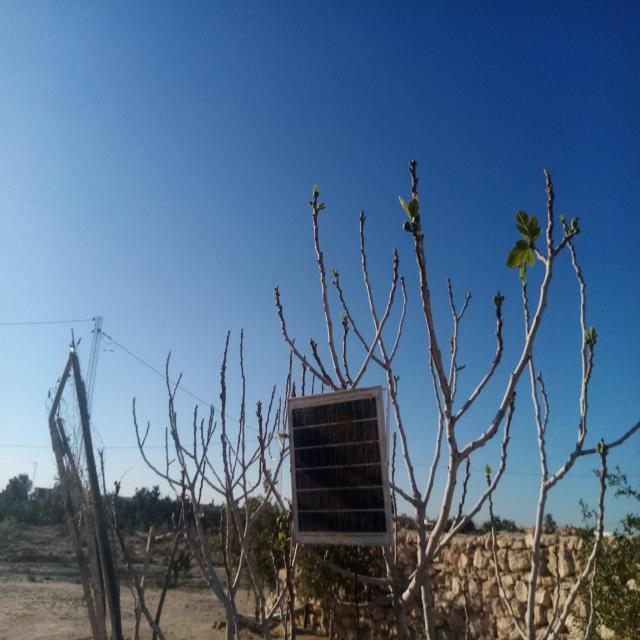faulty: (288, 386, 392, 545)
